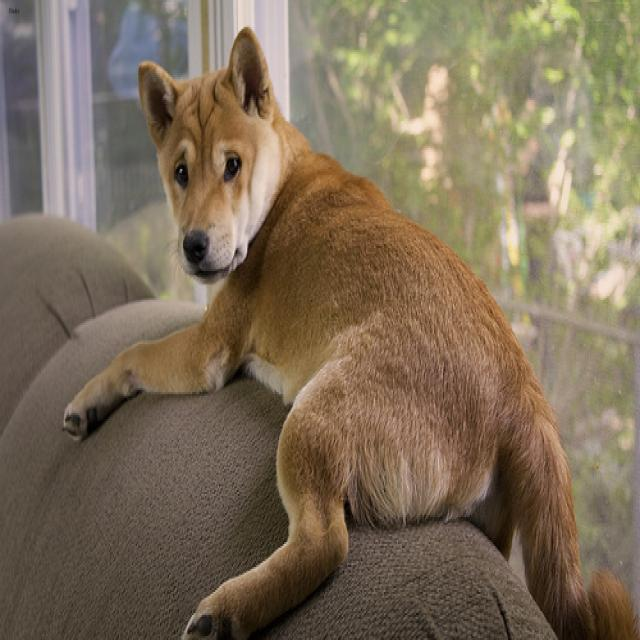dog-shiba_inu: (56, 17, 637, 636)
